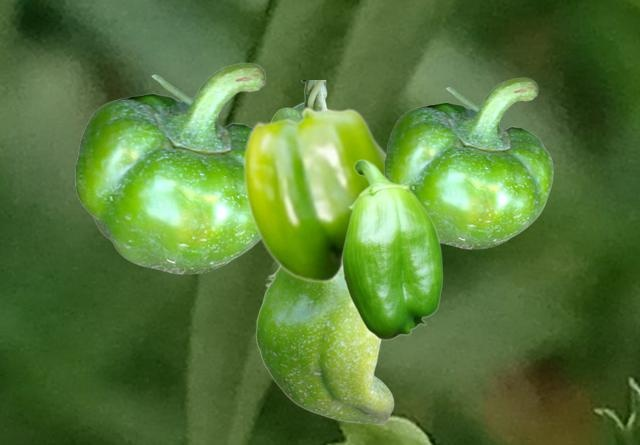bell_pepper: (75, 62, 267, 273), (384, 77, 552, 248), (243, 106, 385, 282), (255, 267, 393, 423), (341, 159, 442, 339), (270, 80, 327, 120)
